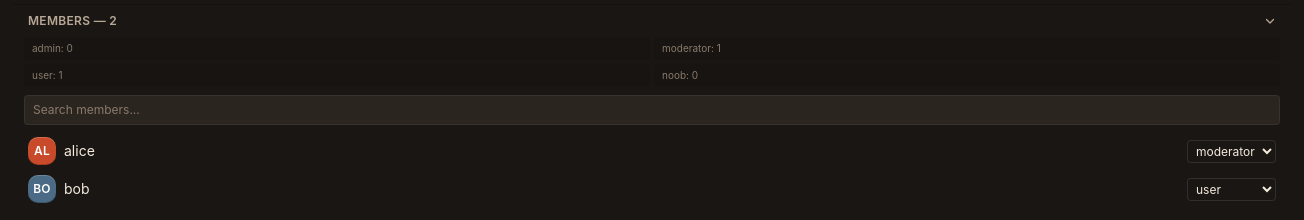
Test case: MembersPanel — role change regression › filters members by username
Type "bob" into the search field with test id "member-search-input" at (652, 110), box [24,95,1280,125]
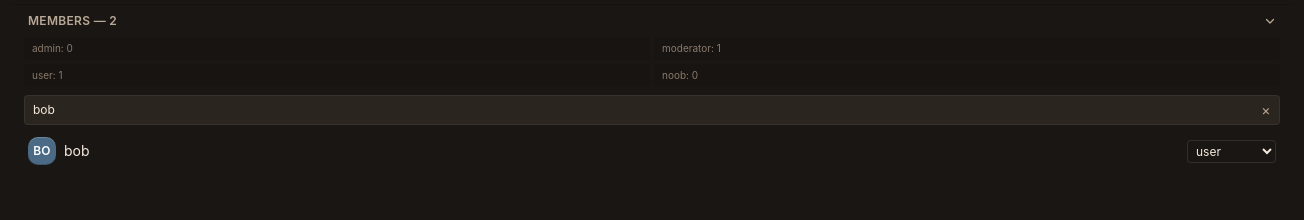
Expected: the text "bob" is shown, [64,142,90,159]
Now the text "alice" is gone
